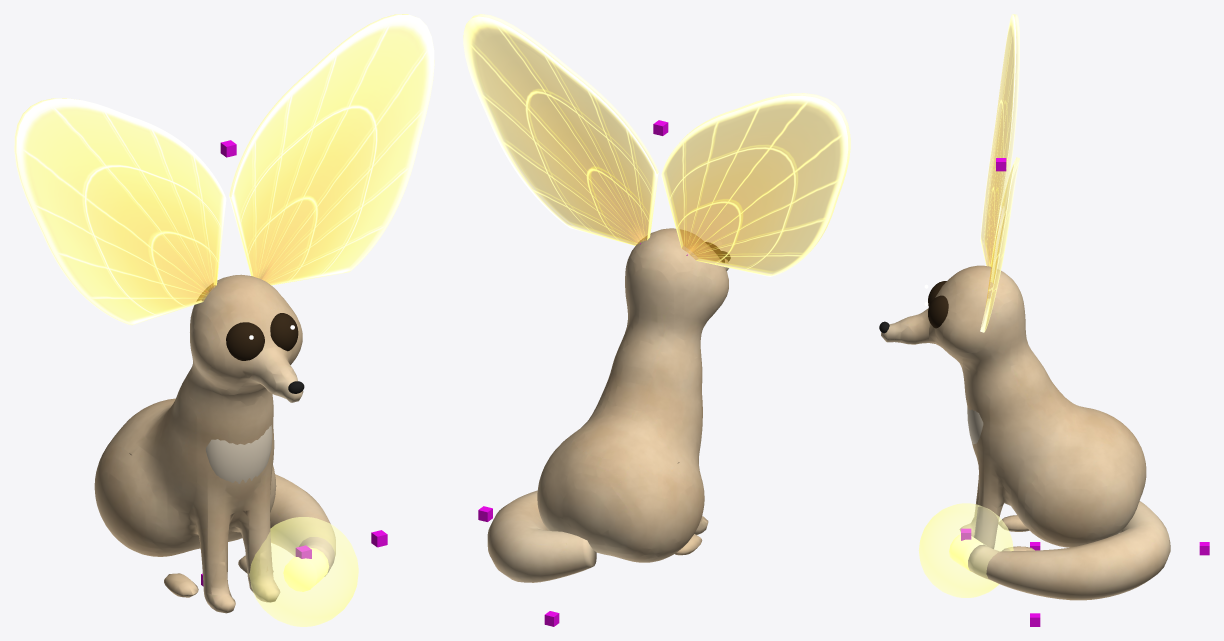
The model's file is 02_fennec_solare.glb.
3 views of the same model, side by side, from view 1: azimuth 30°, elevation 25°; view 2: azimuth 150°, elevation 25°; view 3: azimuth 270°, elevation 25° (orthographic). The views are drawn at different scales.
Visible parts, largest first — view 1: Fennec__Pelo, Fennec__Orecchie_Solari__Orecchio_R, Fennec__Orecchie_Solari__Orecchio_L, Fennec__Alone_Coda, Fennec__Pancia, Fennec__Occhi, Fennec__Punta_Coda; view 2: Fennec__Pelo, Fennec__Orecchie_Solari__Orecchio_L, Fennec__Orecchie_Solari__Orecchio_R; view 3: Fennec__Pelo, Fennec__Alone_Coda, Fennec__Orecchie_Solari__Orecchio_L, Fennec__Orecchie_Solari__Orecchio_R, Fennec__Occhi, Fennec__Punta_Coda.
Boxes of the visible parts, x1=… form: Fennec__Pelo: x1=94, y1=274, x2=335, y2=613; Fennec__Orecchie_Solari__Orecchio_R: x1=229, y1=14, x2=434, y2=285; Fennec__Orecchie_Solari__Orecchio_L: x1=14, y1=98, x2=226, y2=325; Fennec__Alone_Coda: x1=249, y1=517, x2=358, y2=626; Fennec__Pancia: x1=206, y1=425, x2=272, y2=483; Fennec__Occhi: x1=226, y1=313, x2=298, y2=360; Fennec__Punta_Coda: x1=283, y1=547, x2=328, y2=591; Fennec__Pelo: x1=487, y1=228, x2=728, y2=582; Fennec__Orecchie_Solari__Orecchio_L: x1=661, y1=93, x2=850, y2=276; Fennec__Orecchie_Solari__Orecchio_R: x1=463, y1=14, x2=658, y2=245; Fennec__Pelo: x1=881, y1=265, x2=1170, y2=600; Fennec__Alone_Coda: x1=919, y1=503, x2=1013, y2=597; Fennec__Orecchie_Solari__Orecchio_L: x1=980, y1=14, x2=1019, y2=266; Fennec__Orecchie_Solari__Orecchio_R: x1=980, y1=157, x2=1019, y2=332; Fennec__Occhi: x1=928, y1=281, x2=948, y2=328; Fennec__Punta_Coda: x1=949, y1=534, x2=984, y2=571.
Size of the model in its own units: 3.68 by 4.68 by 2.92.
Materials: 9 (2 with a texture image).
